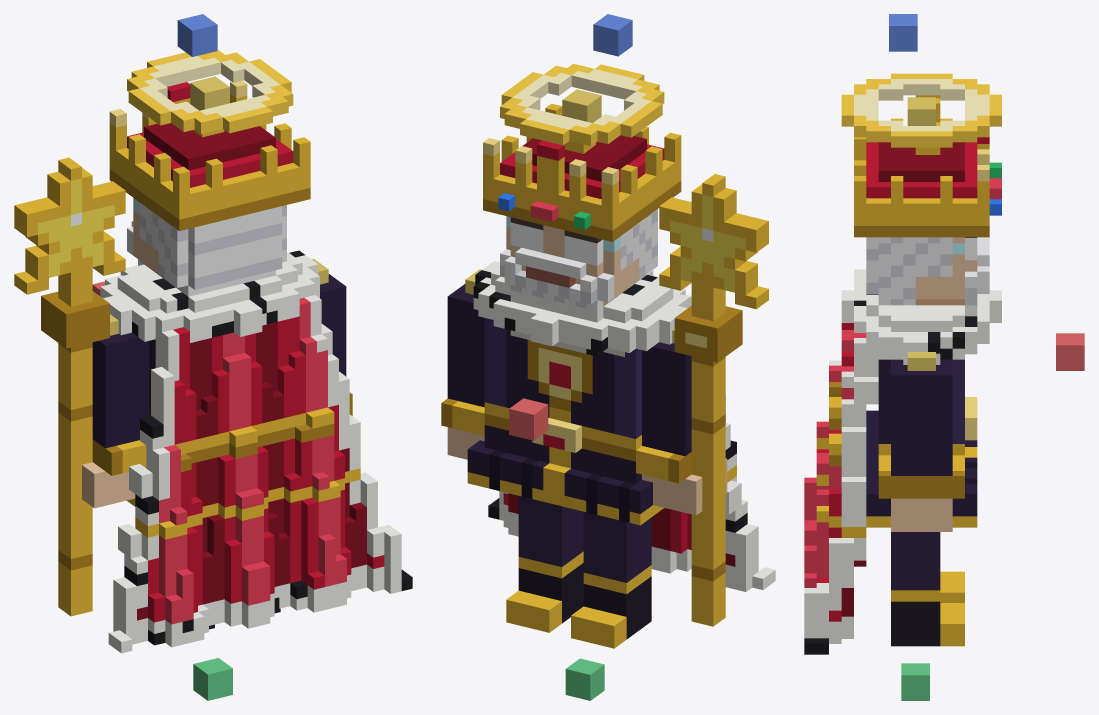
The model's file is AdminoSupremo.glb.
The picture shows the model from 3 angles, left to right: view 1: azimuth 30°, elevation 25°; view 2: azimuth 150°, elevation 25°; view 3: azimuth 270°, elevation 25°; orthographic projection. The views are drawn at different scales.
Visible parts, largest first — view 1: AdminoSupremo_Body, AdminoSupremo_Arm4, AdminoSupremo_Head5, AdminoSupremo_Prop6, AdminoSupremo_Arm3, AdminoSupremo_Top, AdminoSupremo_Built, AdminoSupremo_Pivot6; view 2: AdminoSupremo_Body, AdminoSupremo_Arm4, AdminoSupremo_Head5, AdminoSupremo_Leg2, AdminoSupremo_Prop6, AdminoSupremo_Leg1, AdminoSupremo_Arm3, AdminoSupremo_Top, AdminoSupremo_Front, AdminoSupremo_Built, AdminoSupremo_Pivot6; view 3: AdminoSupremo_Body, AdminoSupremo_Head5, AdminoSupremo_Arm3, AdminoSupremo_Prop6, AdminoSupremo_Leg1, AdminoSupremo_Front, AdminoSupremo_Top, AdminoSupremo_Built, AdminoSupremo_Pivot6, AdminoSupremo_Leg2, AdminoSupremo_Pivot3.
Part boxes in pixels (x1,y1,x2,y2): AdminoSupremo_Body: (100,250,412,653); AdminoSupremo_Arm4: (14,157,149,616); AdminoSupremo_Head5: (109,81,310,296); AdminoSupremo_Prop6: (127,50,293,133); AdminoSupremo_Arm3: (320,274,352,415); AdminoSupremo_Top: (177,14,217,56); AdminoSupremo_Built: (193,658,232,700); AdminoSupremo_Pivot6: (190,76,229,110); AdminoSupremo_Body: (467,261,775,591); AdminoSupremo_Arm4: (636,174,768,626); AdminoSupremo_Head5: (483,103,681,311); AdminoSupremo_Leg2: (571,511,651,648); AdminoSupremo_Prop6: (500,63,664,145); AdminoSupremo_Leg1: (506,496,583,632); AdminoSupremo_Arm3: (441,284,484,459); AdminoSupremo_Top: (593,14,632,56); AdminoSupremo_Front: (509,398,548,440); AdminoSupremo_Built: (565,658,604,700); AdminoSupremo_Pivot6: (562,89,601,122); AdminoSupremo_Body: (804,269,1001,654); AdminoSupremo_Head5: (854,118,1001,305); AdminoSupremo_Arm3: (878,359,964,531); AdminoSupremo_Prop6: (841,73,1001,147); AdminoSupremo_Leg1: (891,532,964,646); AdminoSupremo_Front: (1056,333,1084,370); AdminoSupremo_Top: (889,14,917,51); AdminoSupremo_Built: (901,663,929,700); AdminoSupremo_Pivot6: (907,97,935,125); AdminoSupremo_Leg2: (940,571,964,602); AdminoSupremo_Pivot3: (907,352,935,370).
Bounding box in the file's own units: 3.26 × 6.45 × 2.46.
1 material, 1 textured.
